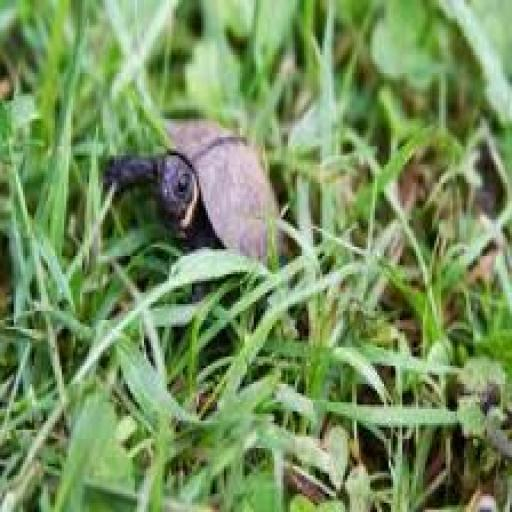turtle: (100, 112, 300, 283)
